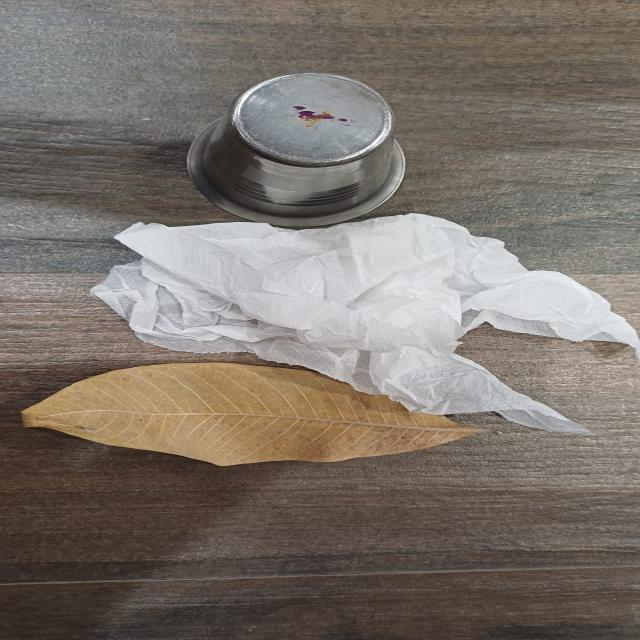Leaf-Bio: (18, 353, 508, 487)
Steel-NonBio: (189, 68, 412, 226)
Tissue Paper-Bio: (87, 207, 640, 435)
